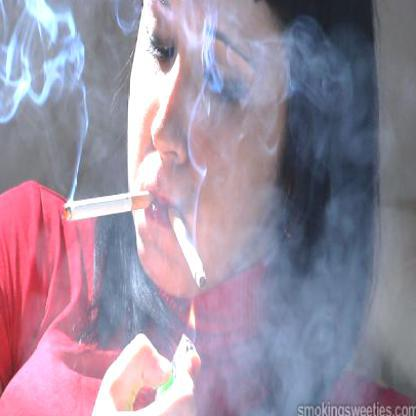cigarette: (58, 188, 154, 224), (168, 204, 206, 290)
person: (12, 0, 403, 415)
smoke: (251, 254, 373, 415), (0, 0, 92, 125), (263, 28, 350, 119), (191, 5, 224, 103)
